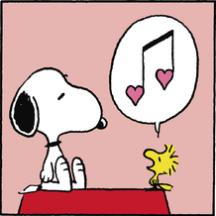snoopy: (8, 64, 110, 196)
